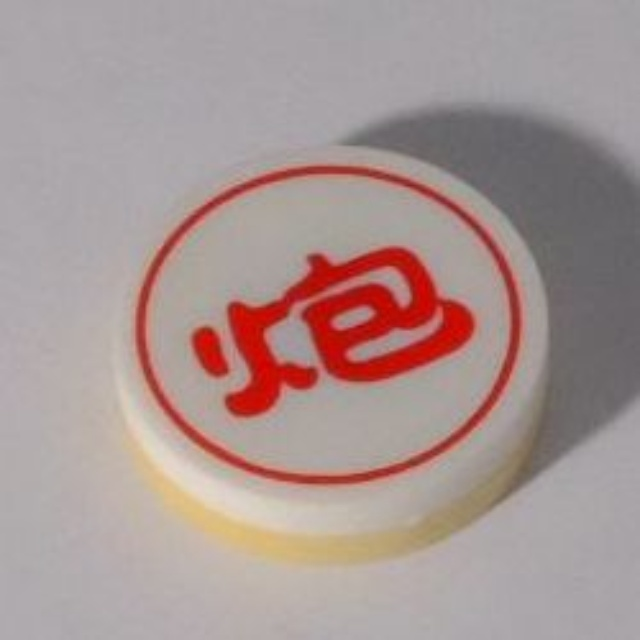red_phao: (108, 133, 566, 575)
